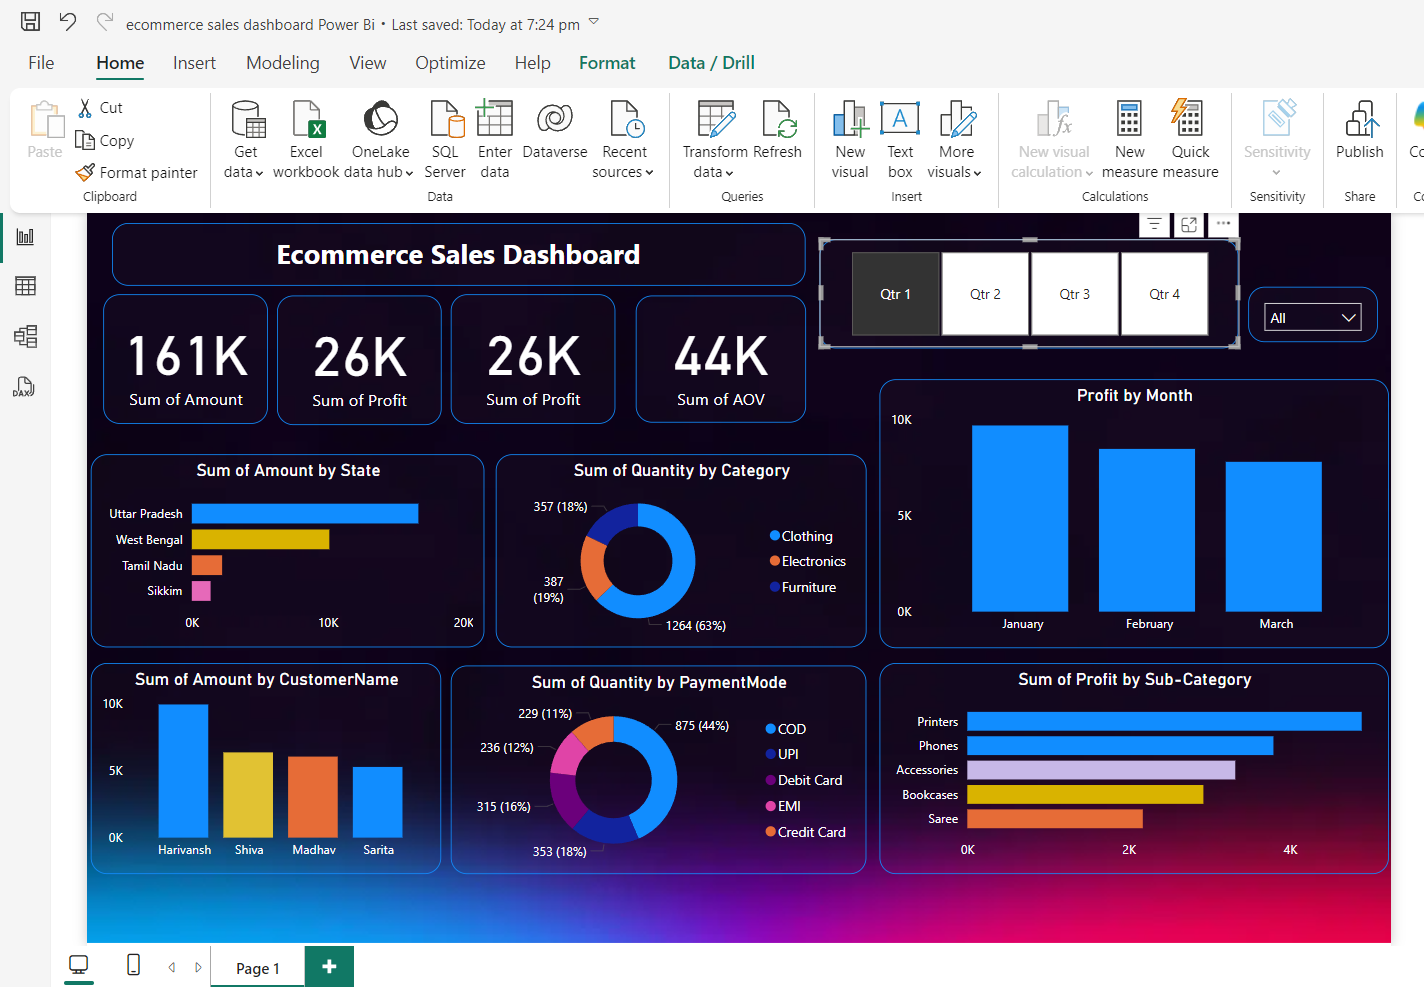

What the dashboard file says about the page in this screenshot:
{"tool":"powerbi","page":{"name":"Page 1","canvas":[1280,720],"ordinal":0},"visuals":[{"type":"textbox","box":[24.7,10.3,680.4,61.9],"z":0},{"type":"columnChart","title":"Profit by Month","fields":{"Category":["Orders.Order Date.Variation.Date Hierarchy.Month"],"Y":["Sum(Details.Profit)"]},"box":[778.4,162.9,500,263.9],"z":1000},{"type":"barChart","fields":{"Category":["Details.Sub-Category"],"Y":["Sum(Details.Profit)"]},"box":[777.3,442.3,500,207.2],"z":2000},{"type":"donutChart","fields":{"Category":["Details.Category"],"Y":["Sum(Details.Quantity)"]},"box":[401,237.1,363.9,189.7],"z":3000},{"type":"donutChart","fields":{"Y":["Sum(Details.Quantity)"],"Category":["Details.PaymentMode"]},"box":[356.7,444.3,408.2,205.2],"z":4000},{"type":"card","fields":{"Values":["Sum(Details.Amount)"]},"box":[16.5,79.4,161.9,126.8],"z":5000},{"type":"card","fields":{"Values":["Sum(Details.Profit)"]},"box":[186.6,80.4,161.9,126.8],"z":6000},{"type":"card","fields":{"Values":["Sum(Details.Profit)"]},"box":[356.7,79.4,161.9,126.8],"z":7000},{"type":"card","fields":{"Values":["Sum(Details.AOV)"]},"box":[538.1,81.4,167,124.7],"z":8000},{"type":"barChart","fields":{"Category":["Orders.State"],"Y":["Sum(Details.Amount)"]},"box":[4.1,237.1,386.6,189.7],"z":9000},{"type":"columnChart","fields":{"Category":["Orders.CustomerName"],"Y":["Sum(Details.Amount)"]},"box":[4.1,442.3,344.3,207.2],"z":10000},{"type":"slicer","fields":{"Values":["Orders.Order Date.Variation.Date Hierarchy.Quarter"]},"box":[719.6,25.8,411.3,107.2],"z":11000},{"type":"slicer","fields":{"Values":["Orders.State"]},"box":[1140.2,72.2,126.8,54.6],"z":12000}]}

Visuals, with their boxes on the page's 1280x720 design canvas (x1, y1, x2, y2). These are canvas units, not pixel positions in the 1424x987 screenshot, which may show the page scaled, cropped or inside an application window:
textbox: pyautogui.locateOnScreen(25, 10, 705, 72)
"Profit by Month" columnChart: pyautogui.locateOnScreen(778, 163, 1278, 427)
barChart - Details.Sub-Category x Sum(Details.Profit): pyautogui.locateOnScreen(777, 442, 1277, 650)
donutChart - Details.Category x Sum(Details.Quantity): pyautogui.locateOnScreen(401, 237, 765, 427)
donutChart - Sum(Details.Quantity) x Details.PaymentMode: pyautogui.locateOnScreen(357, 444, 765, 650)
card - Sum(Details.Amount): pyautogui.locateOnScreen(16, 79, 178, 206)
card - Sum(Details.Profit): pyautogui.locateOnScreen(187, 80, 348, 207)
card - Sum(Details.Profit): pyautogui.locateOnScreen(357, 79, 519, 206)
card - Sum(Details.AOV): pyautogui.locateOnScreen(538, 81, 705, 206)
barChart - Orders.State x Sum(Details.Amount): pyautogui.locateOnScreen(4, 237, 391, 427)
columnChart - Orders.CustomerName x Sum(Details.Amount): pyautogui.locateOnScreen(4, 442, 348, 650)
slicer - Orders.Order Date.Variation.Date Hierarchy.Quarter: pyautogui.locateOnScreen(720, 26, 1131, 133)
slicer - Orders.State: pyautogui.locateOnScreen(1140, 72, 1267, 127)
